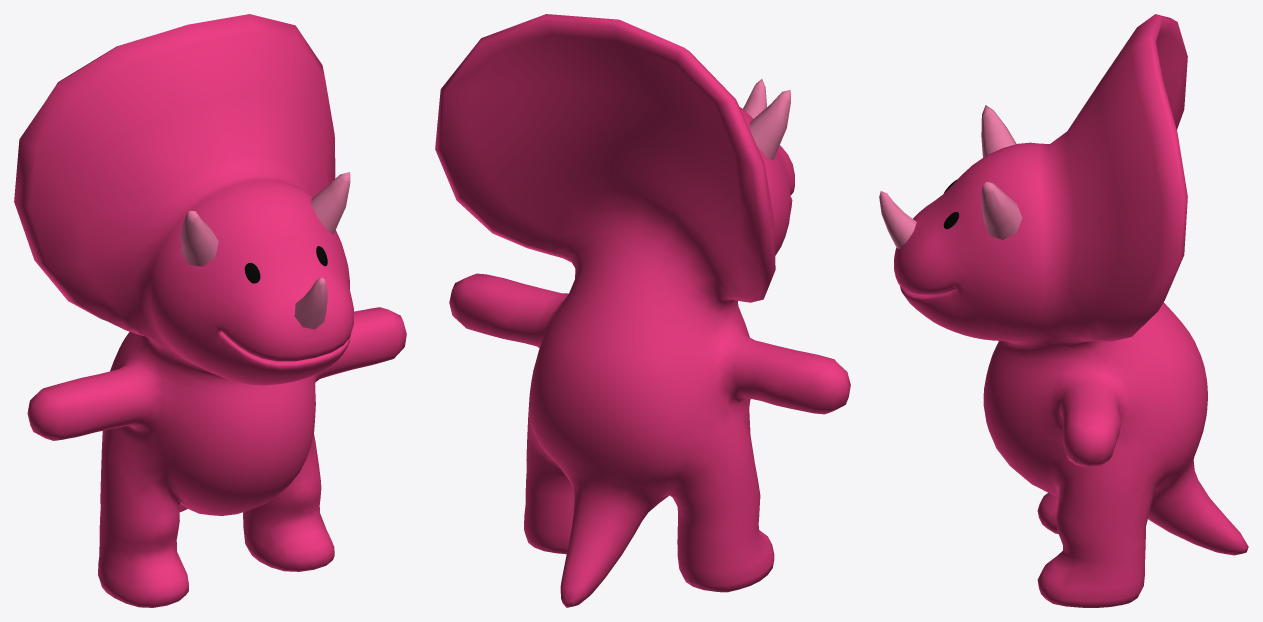
File: Mochi 5.fbx
The picture shows the model from 3 angles, left to right: view 1: azimuth 30°, elevation 25°; view 2: azimuth 150°, elevation 25°; view 3: azimuth 270°, elevation 25°; orthographic projection. The views are drawn at different scales.
Parts seen in each view (by area): view 1: Mochi 5; view 2: Mochi 5; view 3: Mochi 5.
Part boxes in pixels (left/top/right/bottom): Mochi 5: left=14, top=14, right=406, bottom=607; Mochi 5: left=435, top=14, right=850, bottom=607; Mochi 5: left=879, top=14, right=1248, bottom=607.
Bounding box in the file's own units: 387 × 521 × 335.
